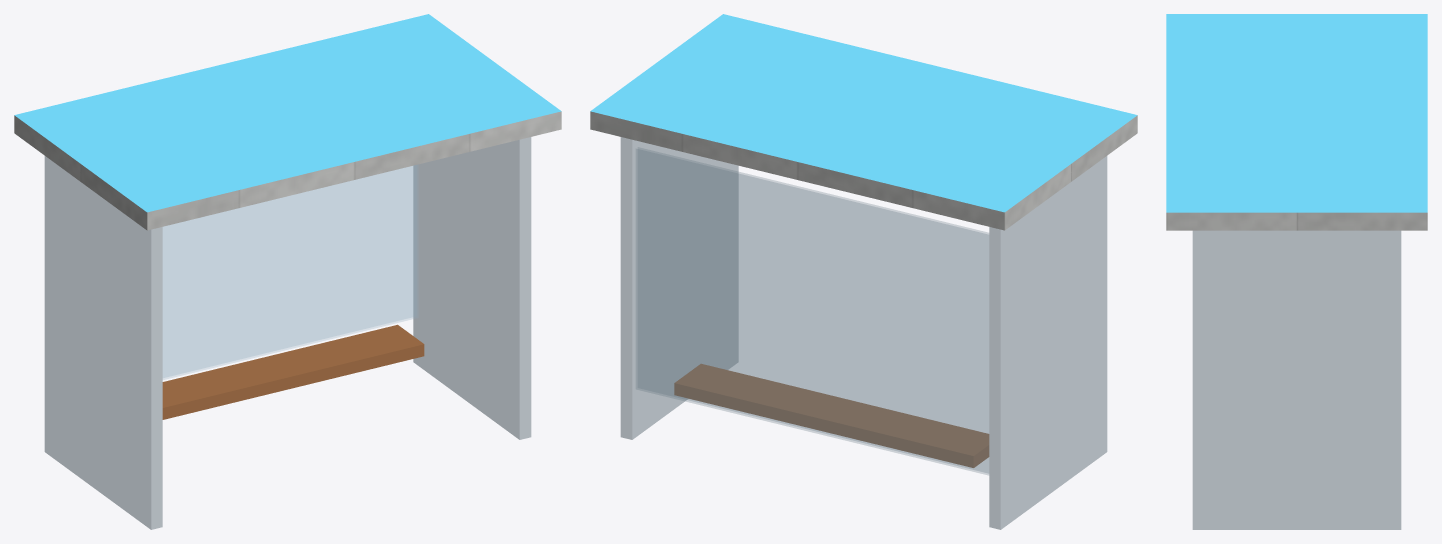
Rendered from prop_transit_shelter.glb.
3 renders of one model, left to right at view 1: azimuth 30°, elevation 25°; view 2: azimuth 150°, elevation 25°; view 3: azimuth 270°, elevation 25°, orthographic.
Visible parts, largest first — view 1: prop_transit_shelter_LOD0; view 2: prop_transit_shelter_LOD0; view 3: prop_transit_shelter_LOD0.
Boxes of the visible parts, x1=… form: prop_transit_shelter_LOD0: x1=14, y1=14, x2=561, y2=529; prop_transit_shelter_LOD0: x1=590, y1=14, x2=1137, y2=529; prop_transit_shelter_LOD0: x1=1166, y1=14, x2=1427, y2=529.
Size of what is drawn, in the model's own units: 3.6 by 2.75 by 2.
3 materials, 2 textured.
